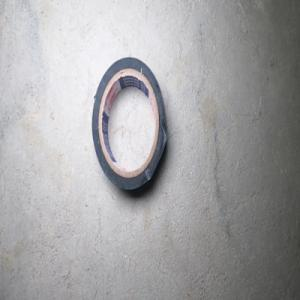Tape: (91, 56, 167, 198)
